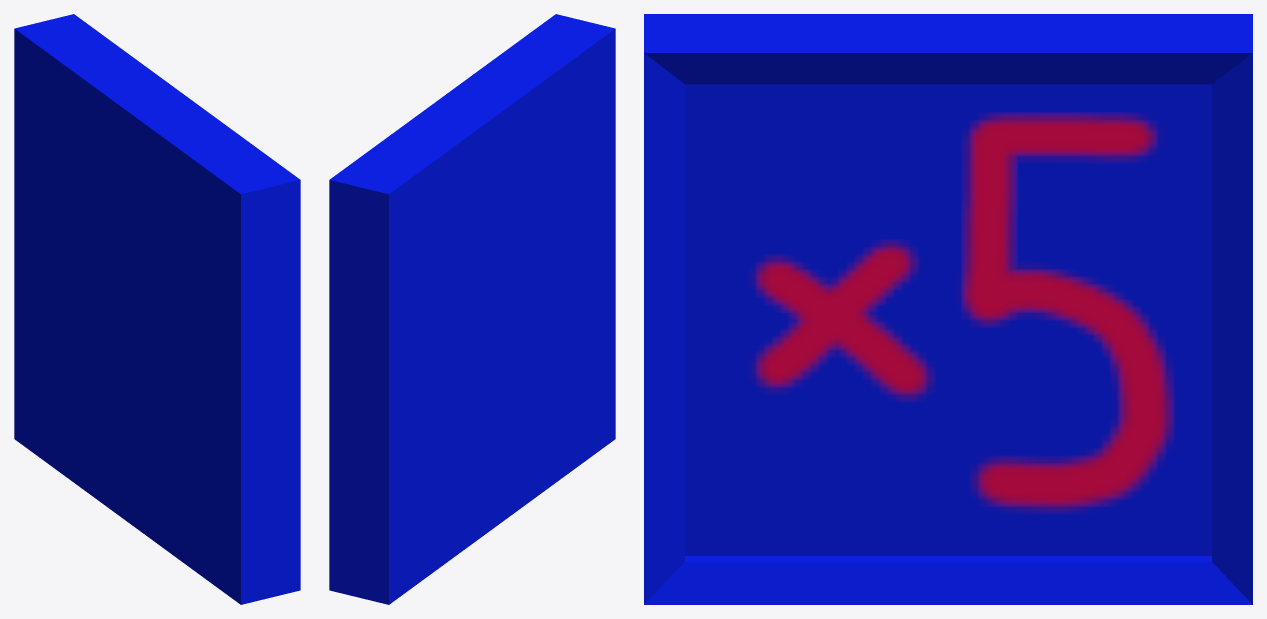
File: TimesFiveMdl.obj
3 renders of one model, left to right at view 1: azimuth 30°, elevation 25°; view 2: azimuth 150°, elevation 25°; view 3: azimuth 270°, elevation 25°, orthographic. The views are drawn at different scales.
Visible parts, largest first — view 1: Cube; view 2: Cube; view 3: Cube.
Boxes of the visible parts, x1,y1,x2,y2 form: Cube: (14,14,300,604); Cube: (329,14,615,604); Cube: (644,14,1252,604).
Size of the model in its own units: 0.3037 by 2 by 2.
